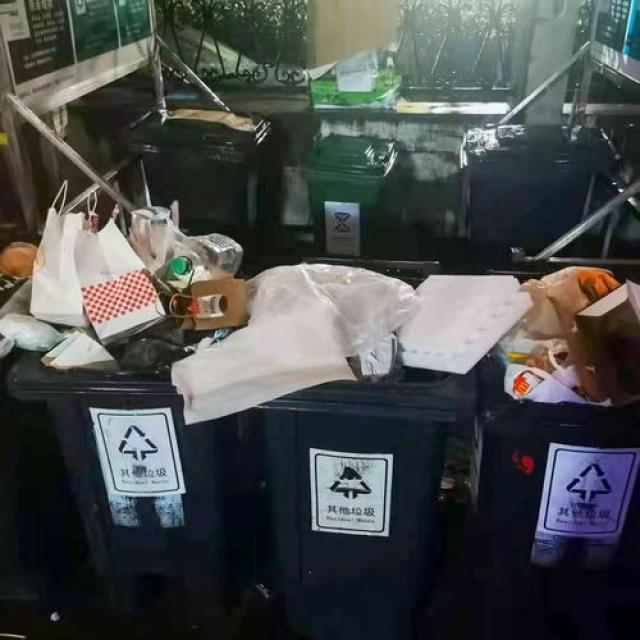garbage_bin: (298, 133, 402, 255)
overflow: (0, 179, 270, 616), (245, 256, 478, 639), (467, 266, 639, 639)
